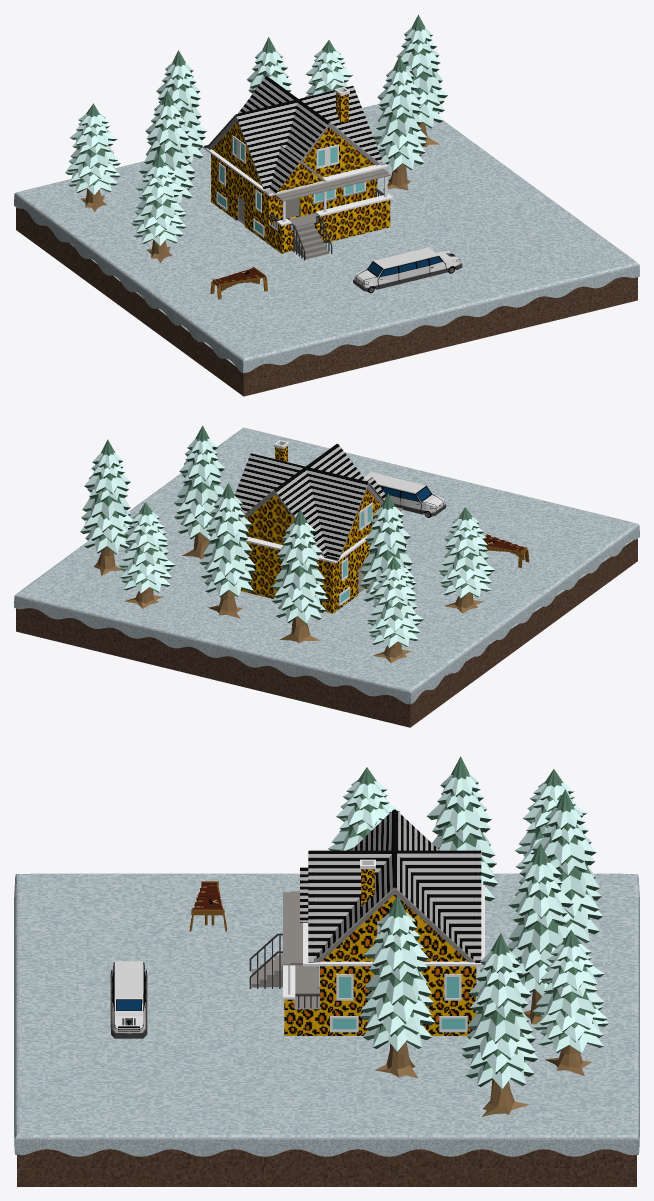
3 renders of one model, top to bottom at view 1: azimuth 30°, elevation 25°; view 2: azimuth 150°, elevation 25°; view 3: azimuth 270°, elevation 25°, orthographic. The views are drawn at different scales.
Parts seen in each view (by area): view 1: Cube.003, Cube.637, VEHICLES_LIMOUSINE, OBJRANDOM_MARIMBA; view 2: Cube.003, Cube.637, VEHICLES_LIMOUSINE, OBJRANDOM_MARIMBA; view 3: Cube.003, Cube.637, VEHICLES_LIMOUSINE, OBJRANDOM_MARIMBA.
Boxes of the visible parts, x1=… form: Cube.003: x1=14, y1=14, x2=639, y2=396; Cube.637: x1=202, y1=76, x2=393, y2=260; VEHICLES_LIMOUSINE: x1=353, y1=247, x2=462, y2=293; OBJRANDOM_MARIMBA: x1=210, y1=266, x2=267, y2=299; Cube.003: x1=14, y1=425, x2=639, y2=727; Cube.637: x1=235, y1=440, x2=405, y2=613; VEHICLES_LIMOUSINE: x1=364, y1=472, x2=446, y2=517; OBJRANDOM_MARIMBA: x1=484, y1=534, x2=529, y2=567; Cube.003: x1=14, y1=756, x2=639, y2=1186; Cube.637: x1=249, y1=809, x2=484, y2=1035; VEHICLES_LIMOUSINE: x1=110, y1=961, x2=147, y2=1038; OBJRANDOM_MARIMBA: x1=189, y1=881, x2=226, y2=931.
Size of the model in its own units: 4040 by 1695 by 4040.
Materials: 28 (4 with a texture image).
